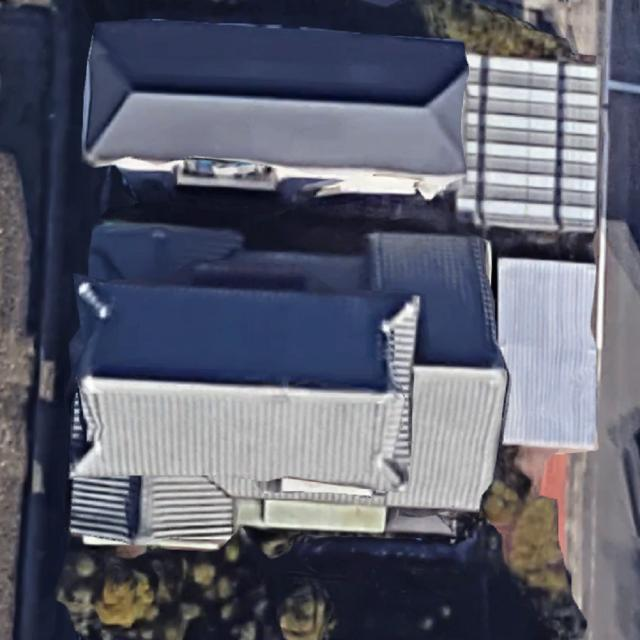Batiment: (70, 221, 509, 548), (84, 20, 468, 176), (498, 258, 596, 449)
